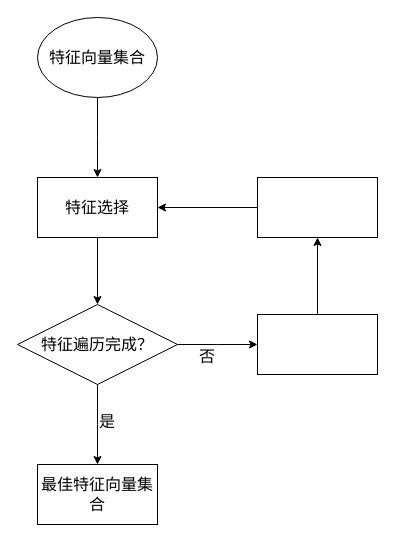
Image size: 395x542. Some labels were removed from this diagram. The shapes that lost their labels are listed below. From the top down, each one's box as (x1, y1, x2, y2) in pixels, then its label:
(256, 176, 378, 238): 识别率
(256, 314, 378, 374): LSTM
